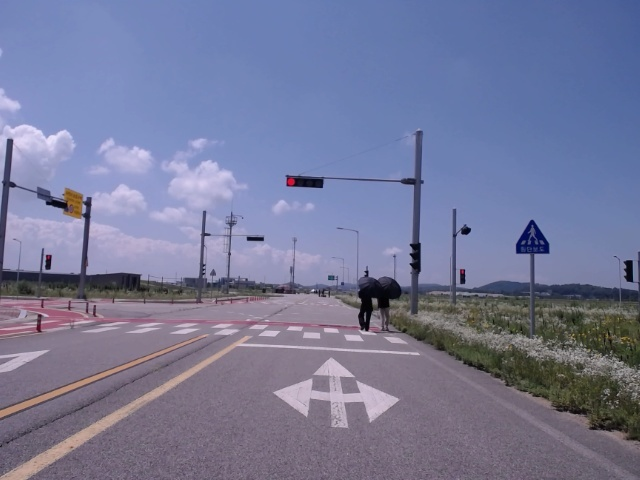red_4: (286, 178, 323, 188)
